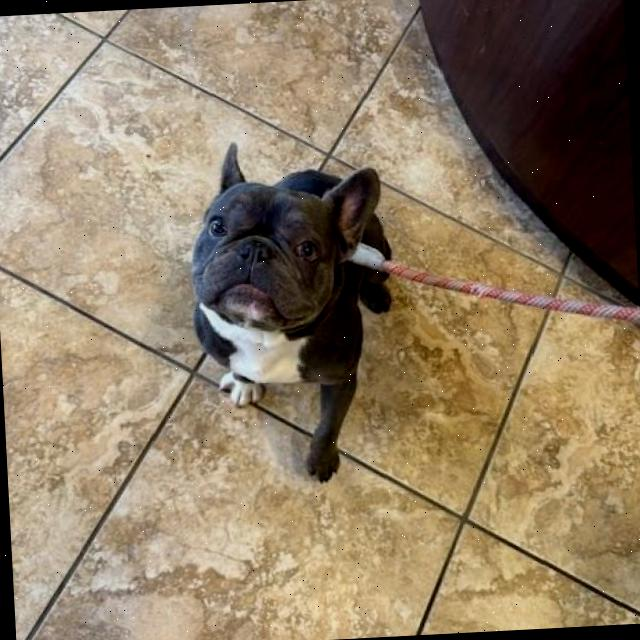french_bulldog_dog: (174, 133, 394, 360)
